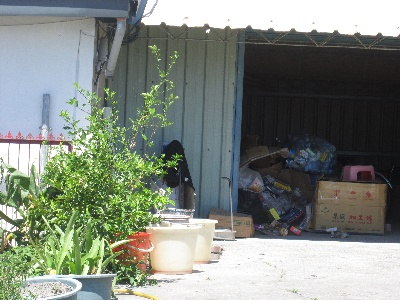box: (312, 181, 388, 235), (210, 211, 256, 238)
bucket: (146, 225, 203, 276)
